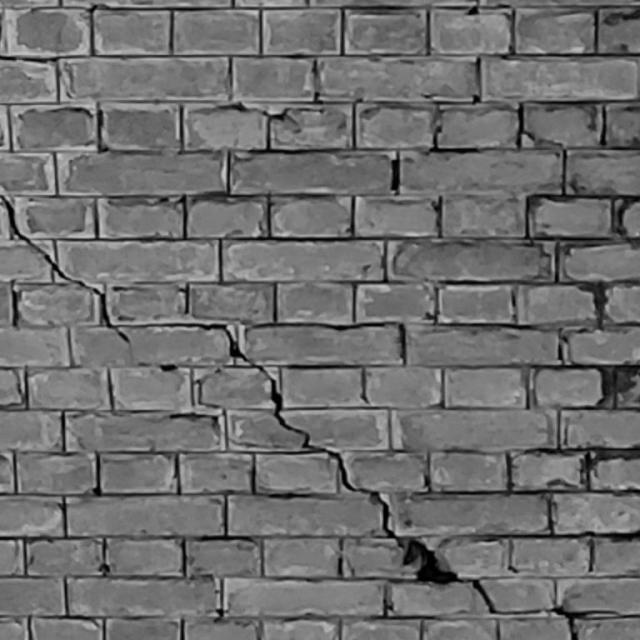crack: (1, 194, 622, 619)
